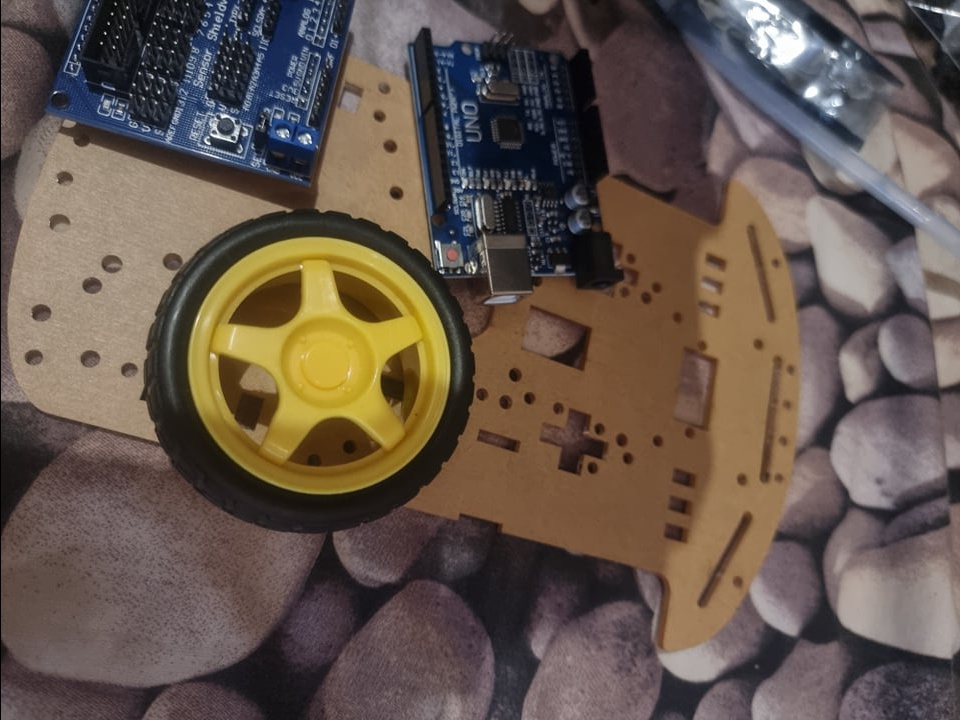5V EXPANSION: (37, 1, 356, 195)
UNO R3: (404, 28, 618, 299)
